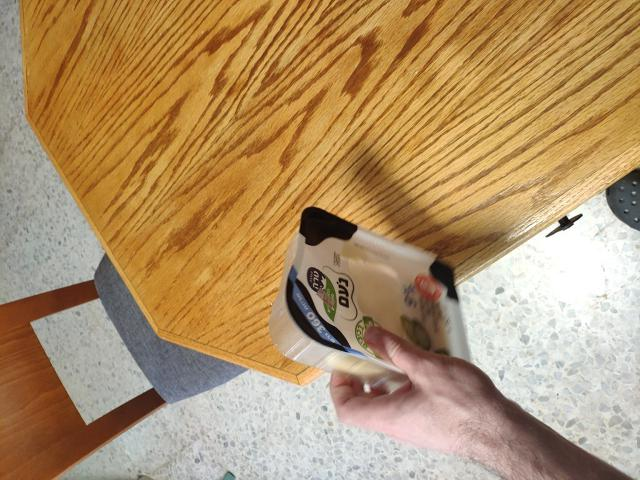cheese: (281, 220, 491, 372)
